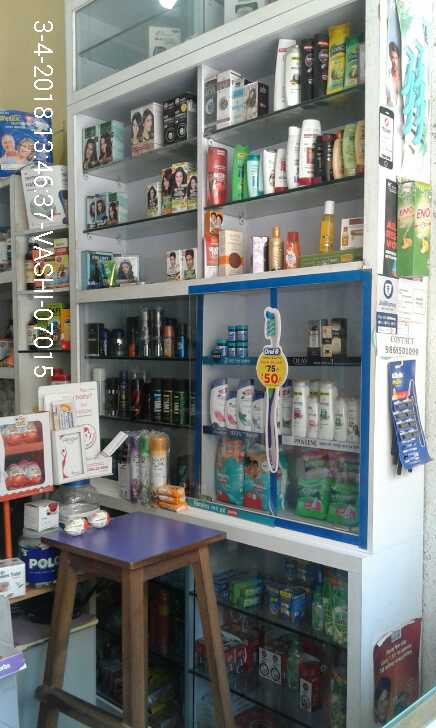vicks: (215, 325, 248, 358)
